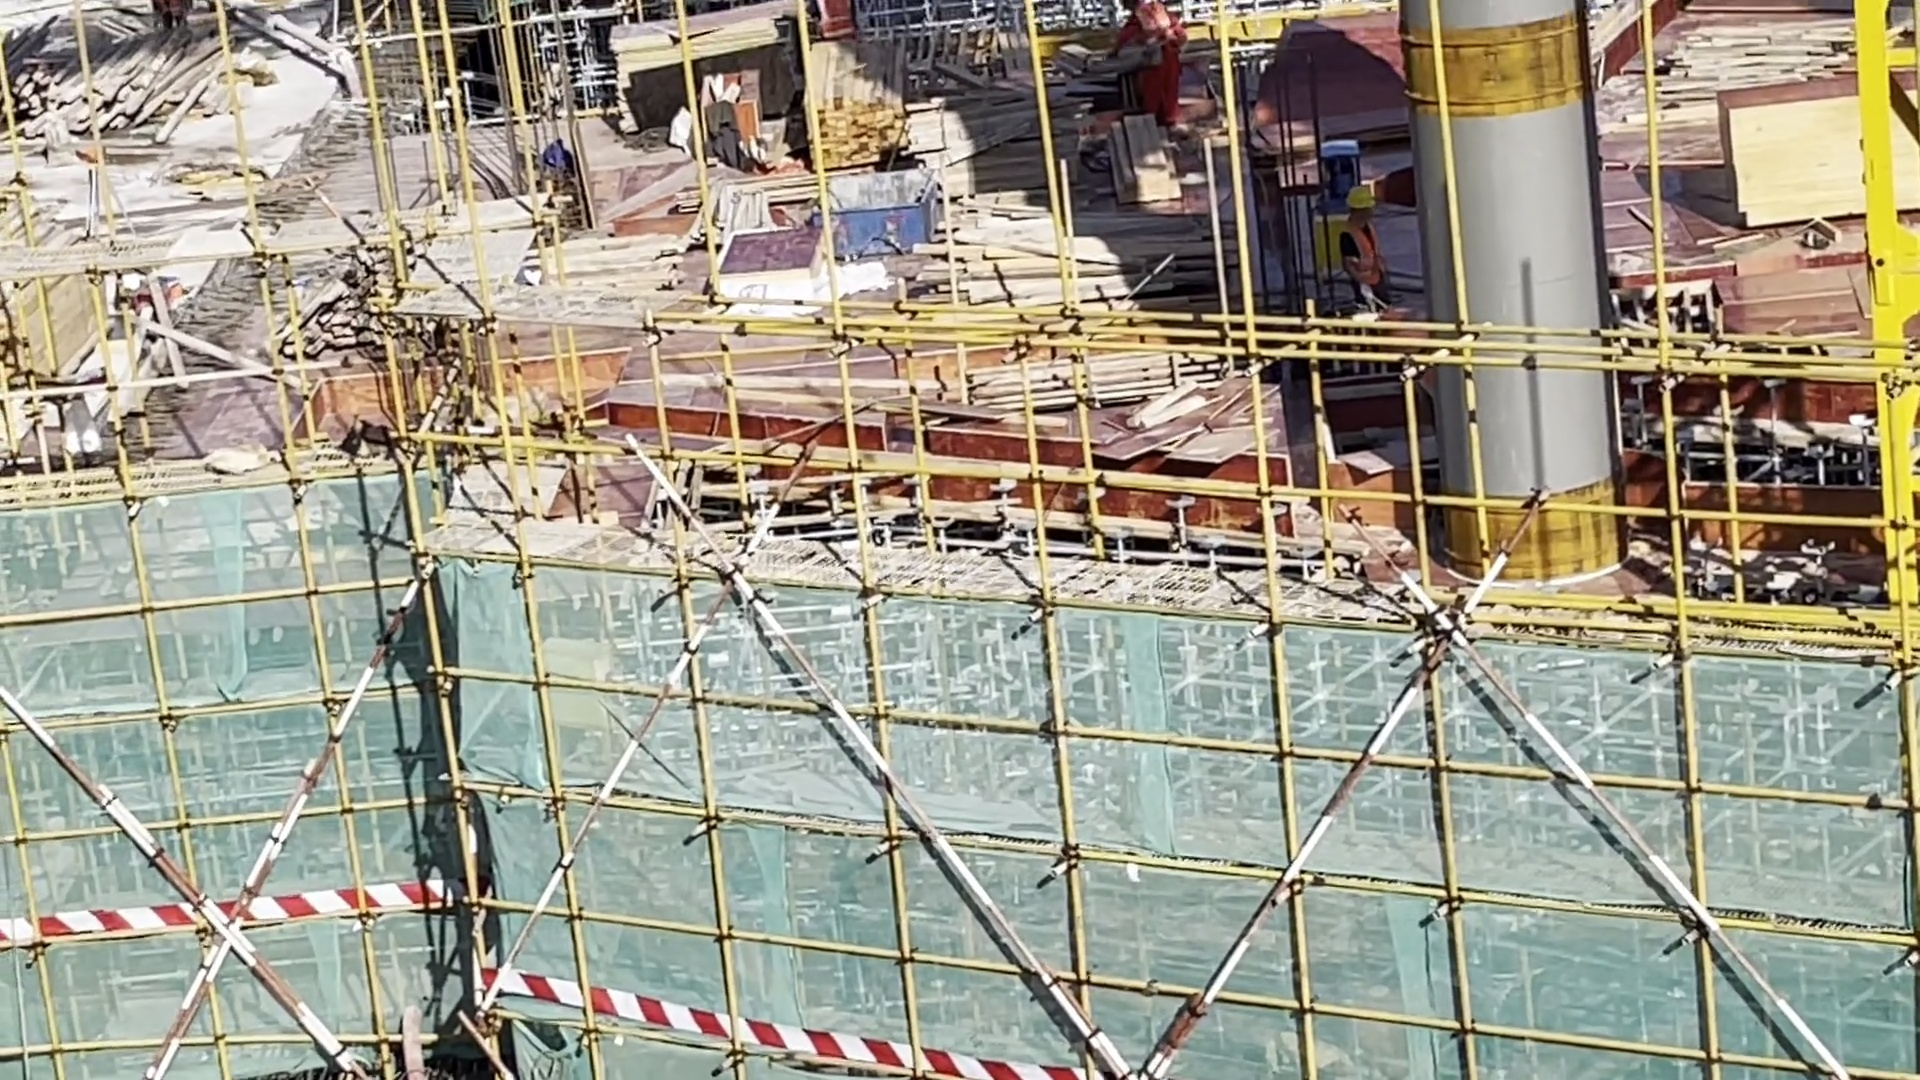board: (1122, 352, 1267, 468)
helmet: (1342, 177, 1381, 219)
hopper: (1671, 429, 1881, 571), (811, 164, 955, 261)
person: (1315, 180, 1403, 311), (1113, 1, 1182, 132)
vest: (1338, 225, 1387, 296)
wood: (1637, 23, 1849, 145), (25, 38, 222, 164), (954, 365, 1199, 411)
